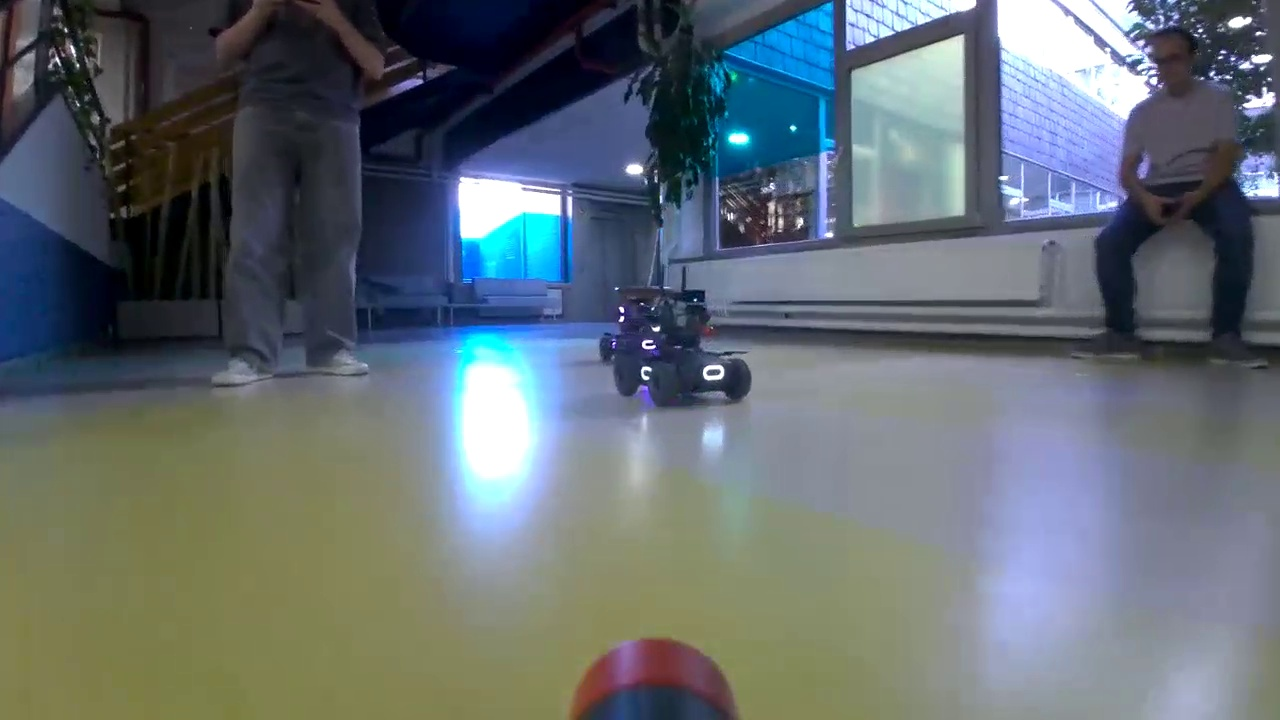robot: (616, 294, 752, 402), (606, 300, 672, 358)
